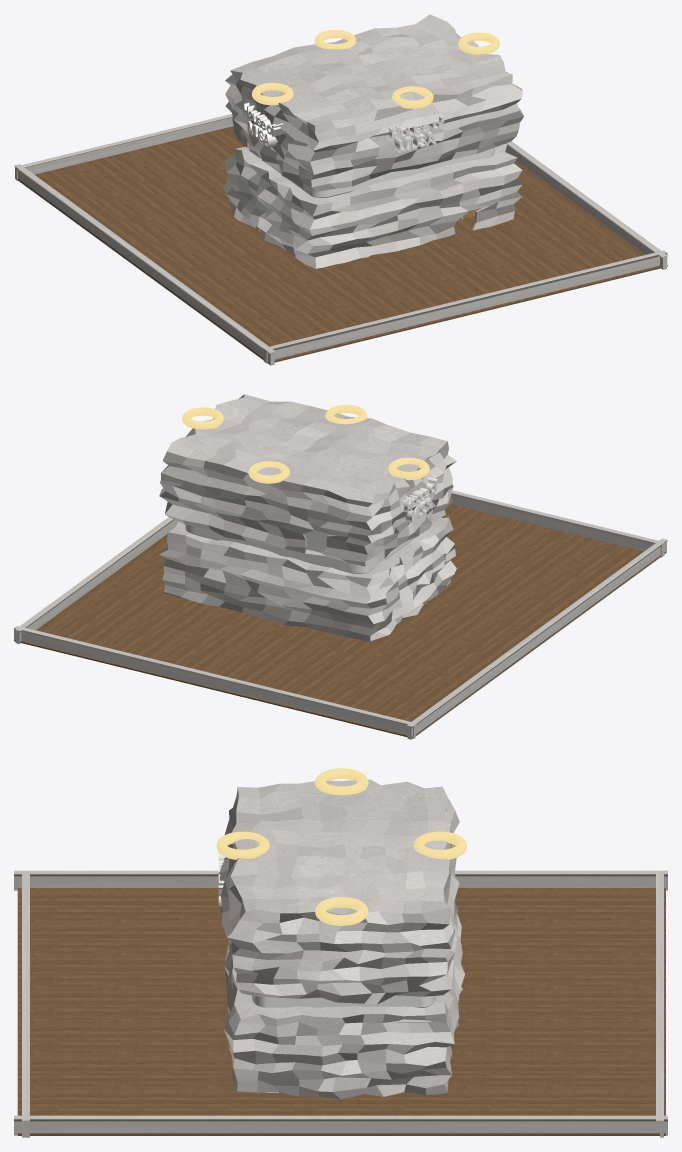
The model's file is gallery-updated-compressed.glb.
3 views of the same model, one above another, from view 1: azimuth 30°, elevation 25°; view 2: azimuth 150°, elevation 25°; view 3: azimuth 270°, elevation 25° (orthographic). The views are drawn at different scales.
Parts seen in each view (by area): view 1: Cube.012, Cube, Cube.009, Cube.014, Torus; view 2: Cube.012, Cube, Cube.009, Cube.014, Torus; view 3: Cube, Cube.012, Cube.009, Torus, Cube.014.
Part boxes in pixels (x1=…): Cube.012: x1=223, y1=14, x2=523, y2=268; Cube: x1=18, y1=126, x2=667, y2=363; Cube.009: x1=14, y1=114, x2=667, y2=365; Cube.014: x1=243, y1=102, x2=494, y2=197; Torus: x1=252, y1=30, x2=499, y2=108; Cube.012: x1=159, y1=394, x2=456, y2=641; Cube: x1=14, y1=504, x2=665, y2=738; Cube.009: x1=14, y1=490, x2=667, y2=739; Cube.014: x1=185, y1=476, x2=437, y2=573; Torus: x1=182, y1=404, x2=429, y2=483; Cube: x1=17, y1=888, x2=665, y2=1135; Cube.012: x1=218, y1=779, x2=464, y2=1099; Cube.009: x1=14, y1=870, x2=667, y2=1137; Torus: x1=216, y1=768, x2=466, y2=925; Cube.014: x1=218, y1=852, x2=435, y2=1007.
Size of the model in its own units: 111 by 41.92 by 123.
23 materials, 14 textured.
